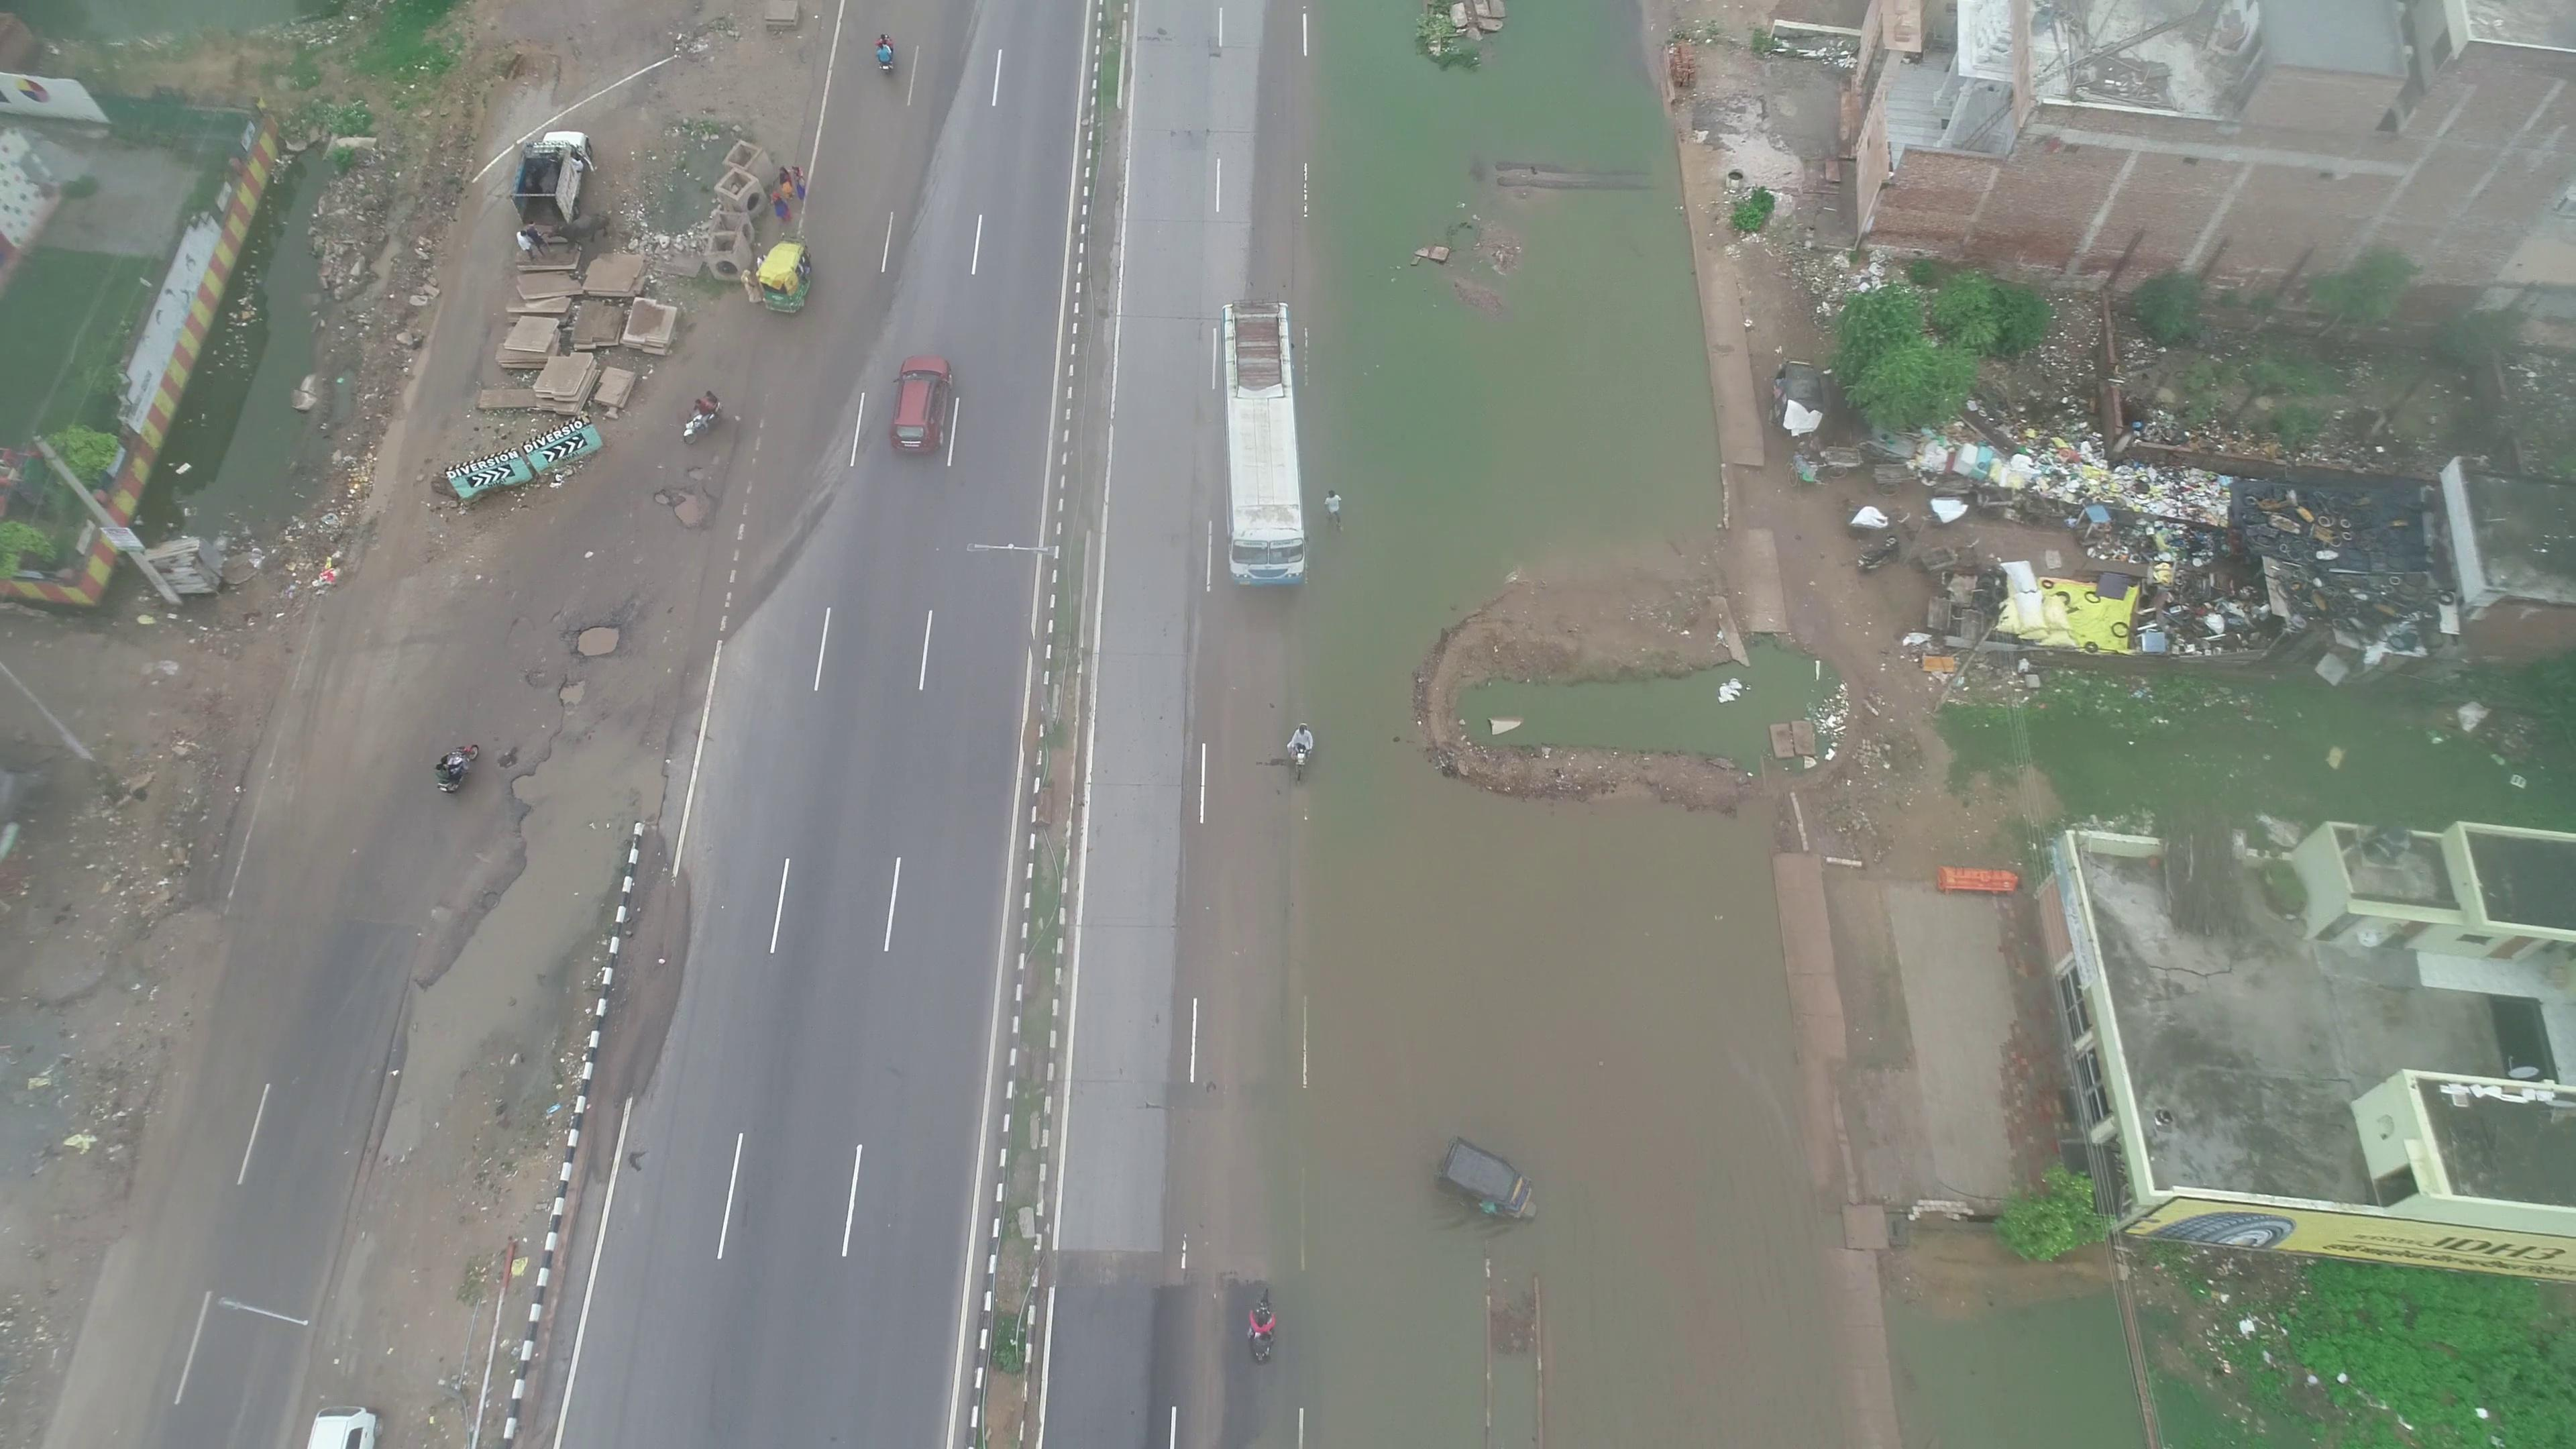Potholes: (511, 571, 681, 724), (626, 444, 734, 552)
Waterlogging: (1238, 766, 1835, 1435), (1288, 23, 1693, 520)
